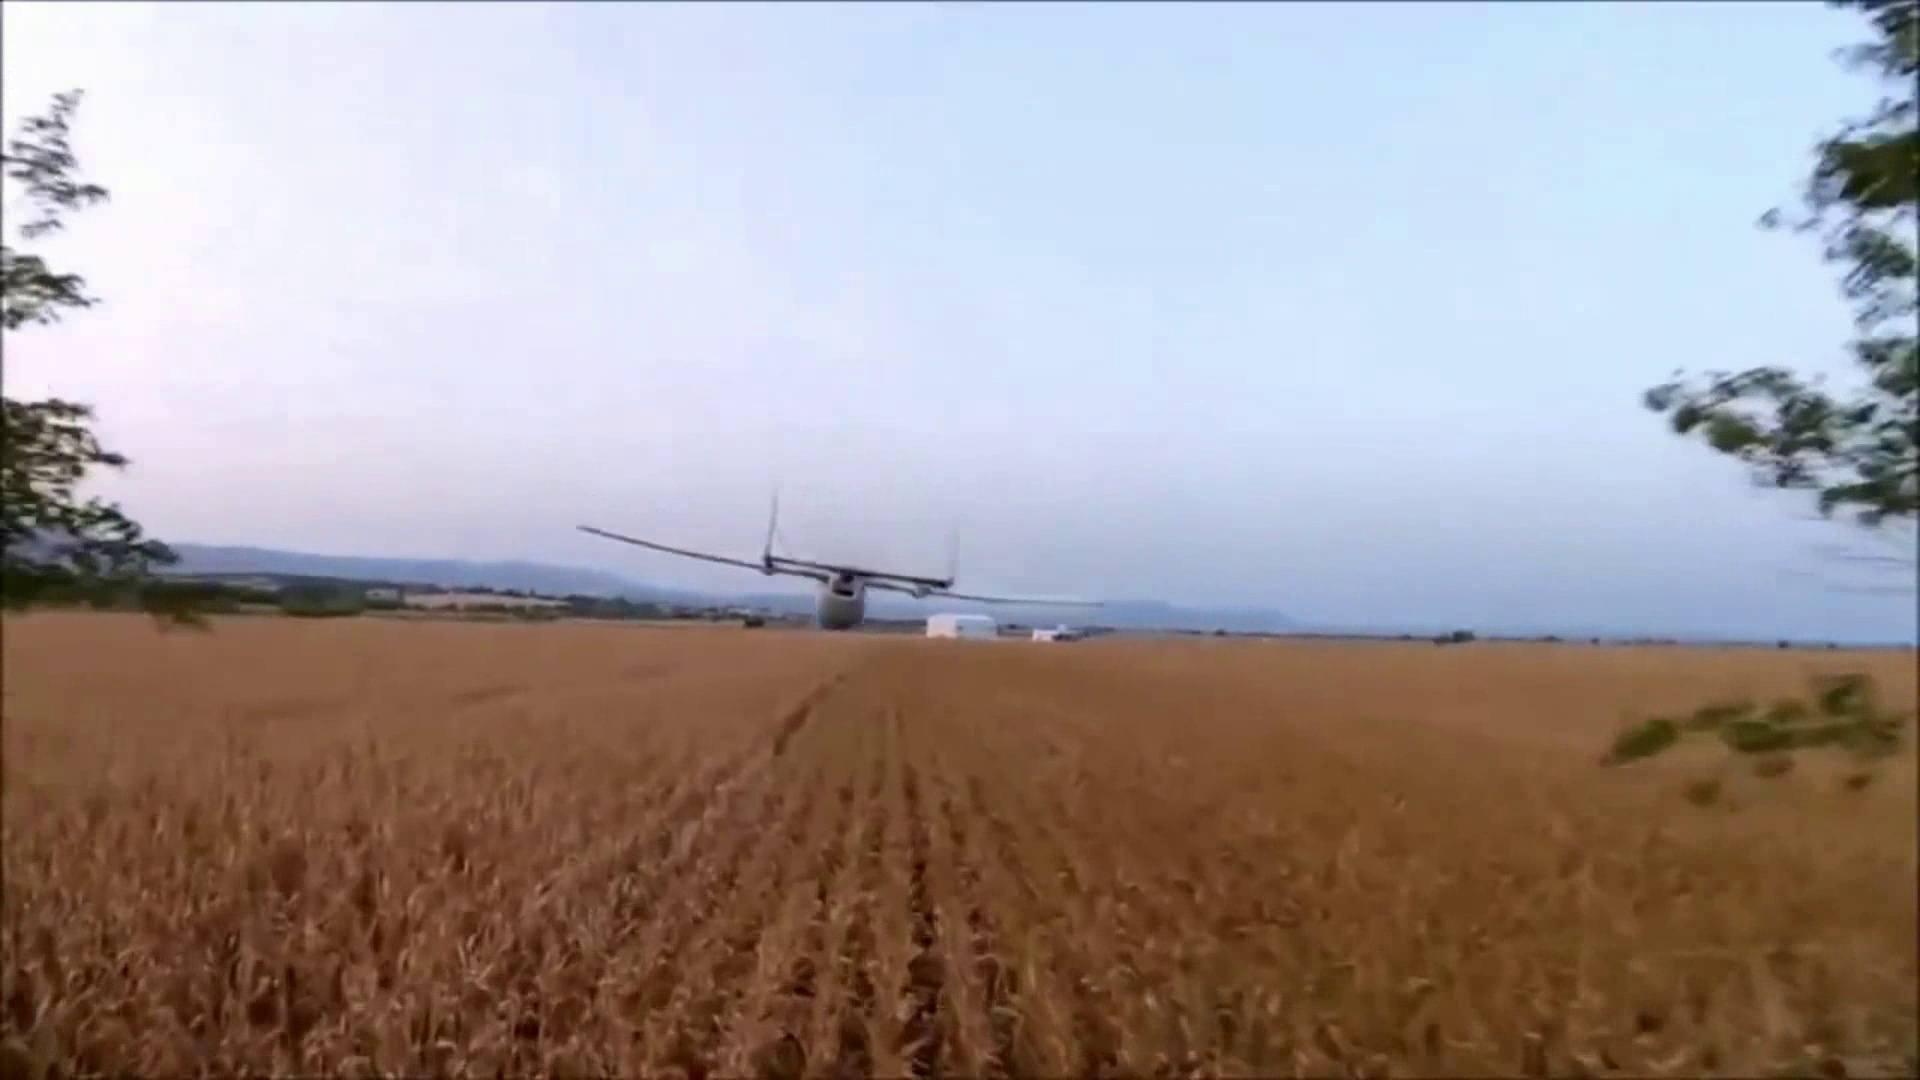airplane: (575, 482, 973, 629)
